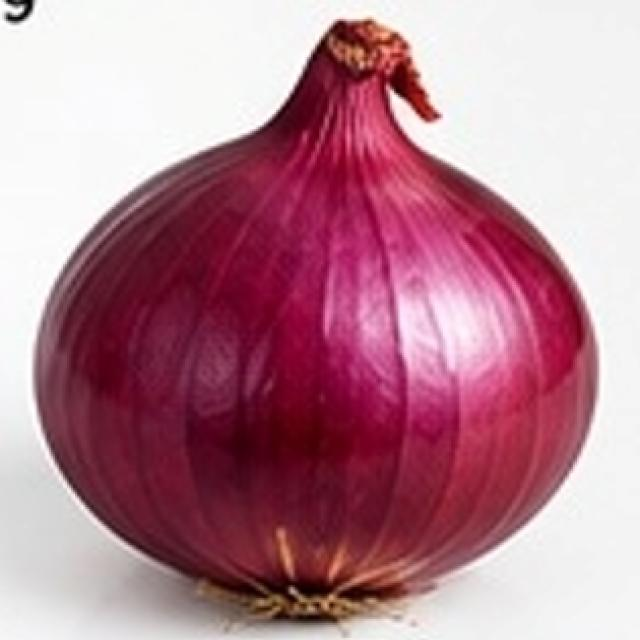healthy: (6, 0, 623, 637), (480, 474, 485, 479)
